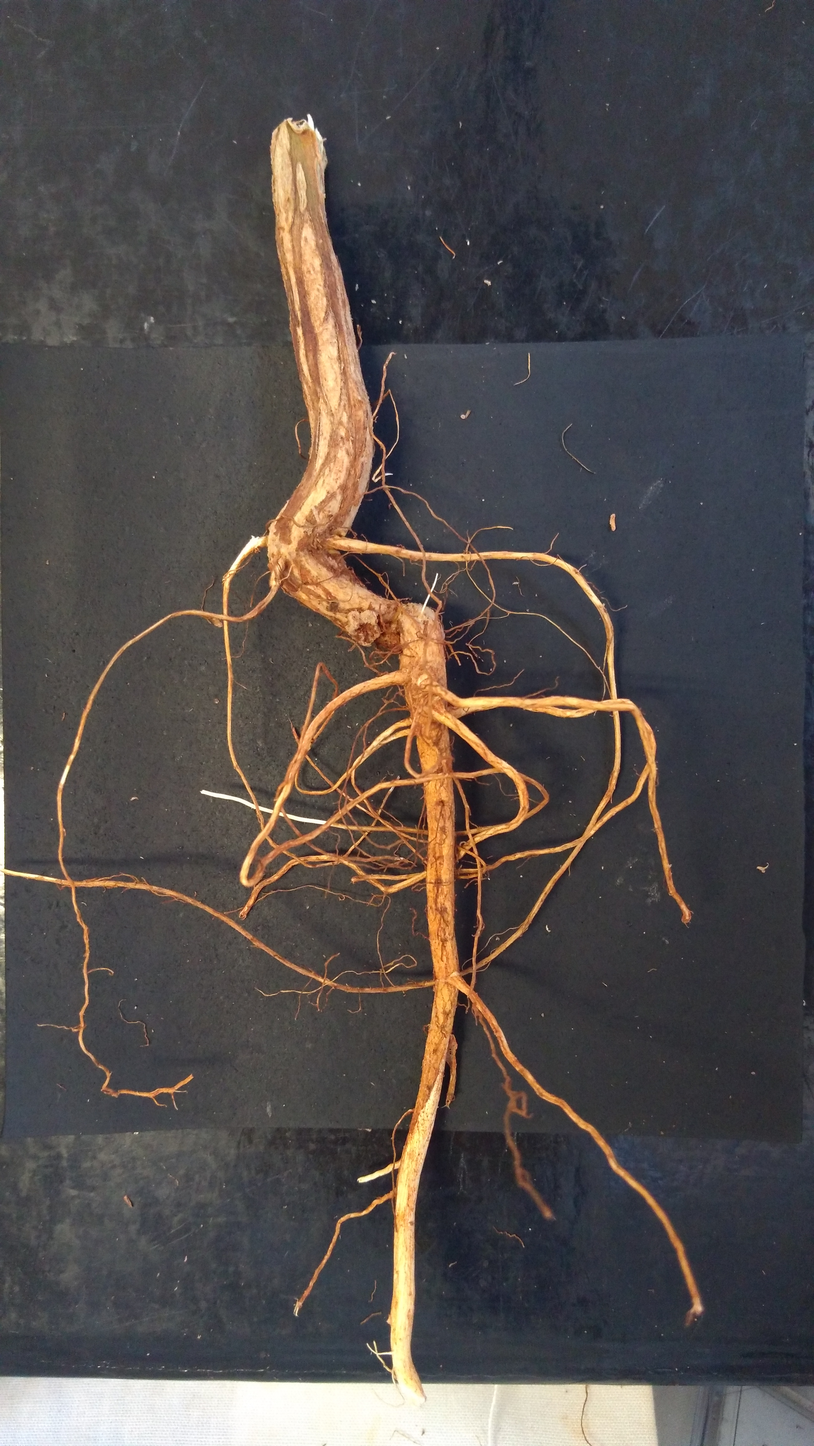nodule: (344, 610, 381, 647), (374, 632, 401, 654), (445, 1034, 458, 1064), (460, 415, 466, 419)
